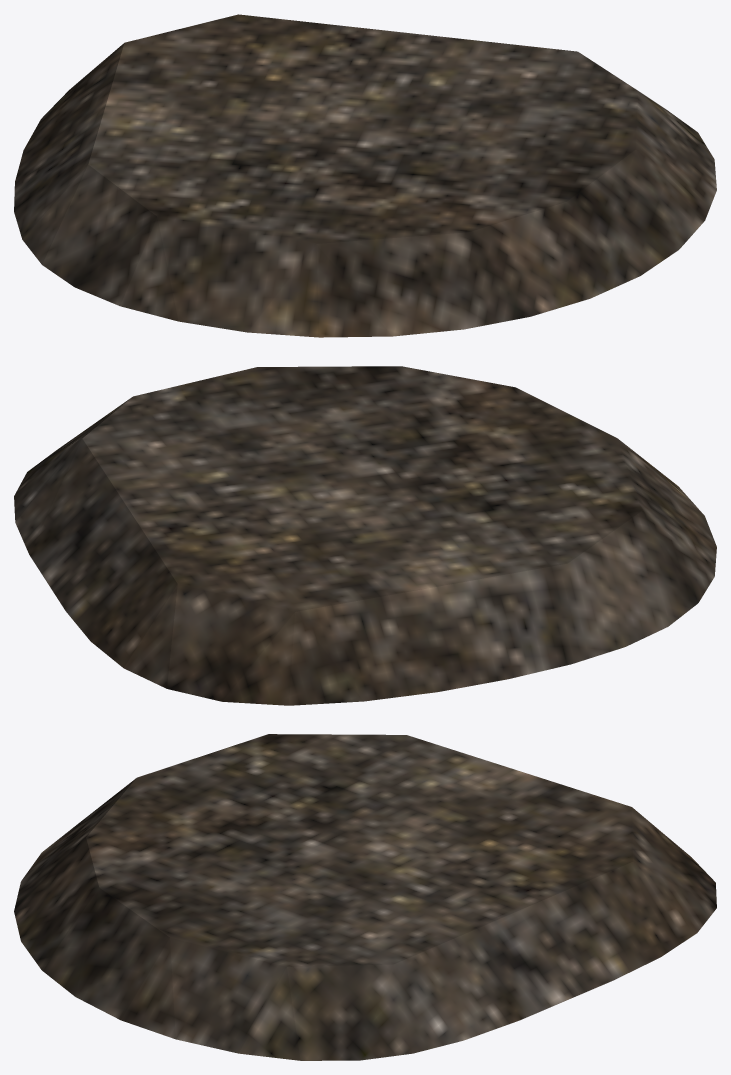
The model's file is SM_TI_Slab_6.fbx.
The picture shows the model from 3 angles, top to bottom: view 1: azimuth 30°, elevation 25°; view 2: azimuth 150°, elevation 25°; view 3: azimuth 270°, elevation 25°; orthographic projection. The views are drawn at different scales.
Parts seen in each view (by area): view 1: SM_TI_Slab_6; view 2: SM_TI_Slab_6; view 3: SM_TI_Slab_6.
Boxes of the visible parts, x1,y1,x2,y2 form: SM_TI_Slab_6: [14, 14, 716, 337]; SM_TI_Slab_6: [14, 366, 716, 705]; SM_TI_Slab_6: [14, 734, 716, 1060].
Bounding box in the file's own units: 1.68 × 1.67 × 0.1626.
